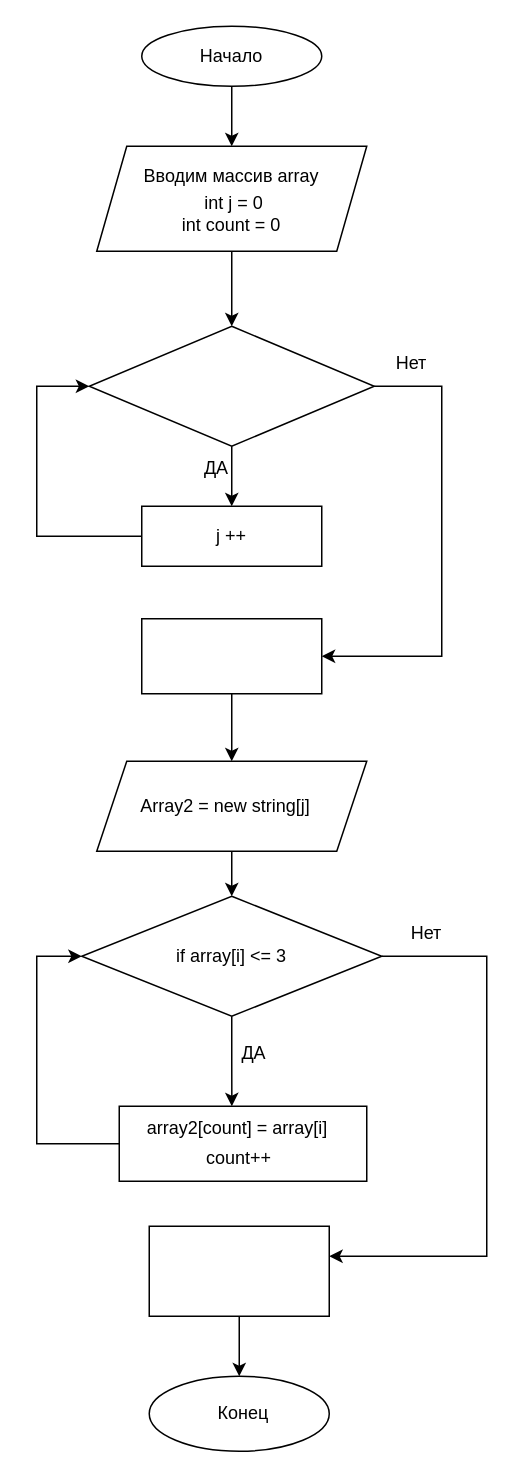
The diagram is 525 pixels wide and 1478 high, and some of its shapes have lost their labels. The centre of each missing label's shape, as x and y in pixels:
if array[i] <=3: pixel 231 385
Вывод j =: pixel 231 655
Печать array array2: pixel 238 1270
